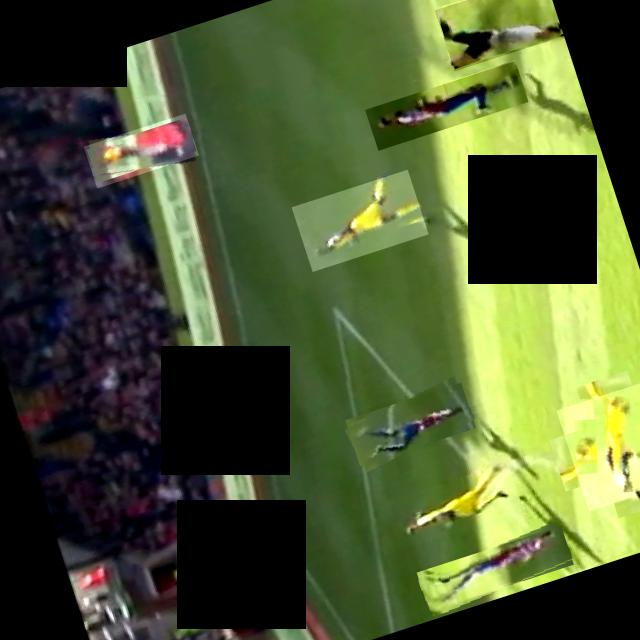referee: (434, 0, 563, 70), (84, 112, 198, 188)
soccer-player: (414, 521, 576, 615), (364, 60, 528, 150), (386, 456, 538, 549), (292, 168, 429, 270), (343, 377, 478, 469), (556, 376, 640, 510), (566, 524, 640, 576)
